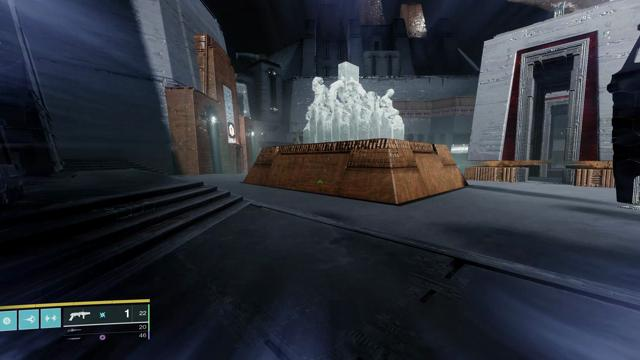worship: (229, 124, 235, 136)
